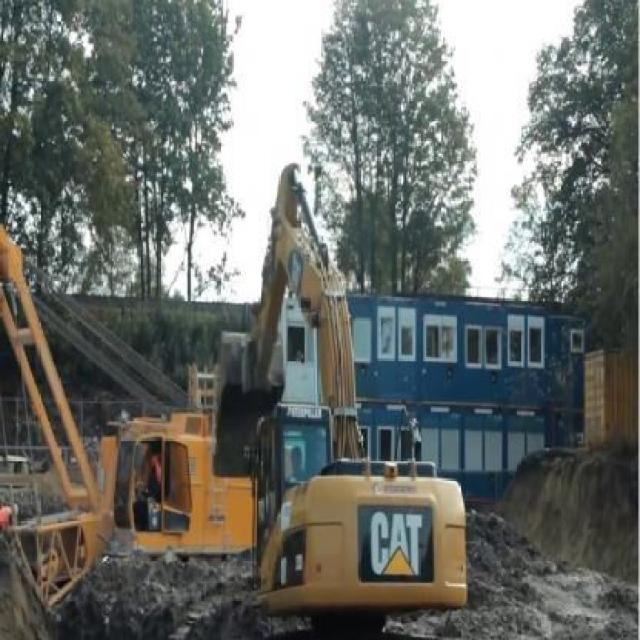Excavator: (208, 156, 470, 639)
